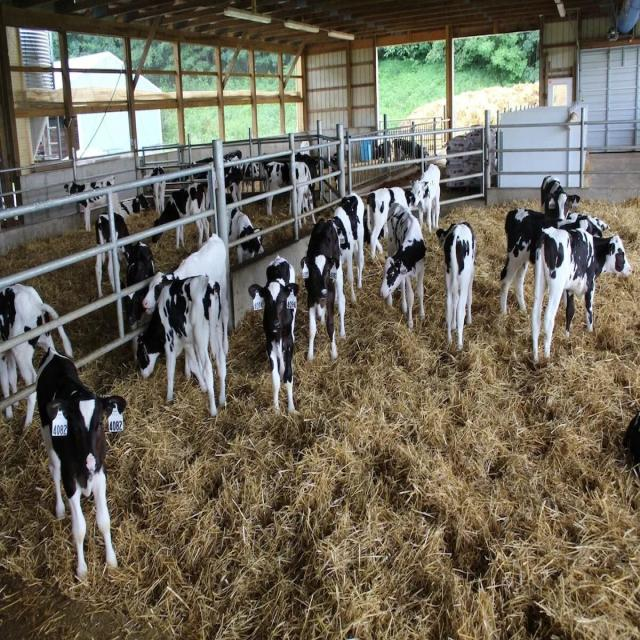cow: (32, 342, 126, 582), (530, 226, 631, 364), (136, 271, 227, 418), (498, 206, 608, 316), (0, 282, 73, 431), (248, 254, 299, 416), (300, 216, 346, 362), (379, 200, 426, 330), (434, 220, 476, 350), (149, 177, 210, 252), (89, 210, 138, 300), (332, 190, 371, 302), (368, 184, 417, 262), (61, 173, 118, 234), (408, 160, 444, 239), (228, 203, 264, 263), (290, 159, 319, 226), (265, 160, 293, 218), (149, 168, 168, 215)
